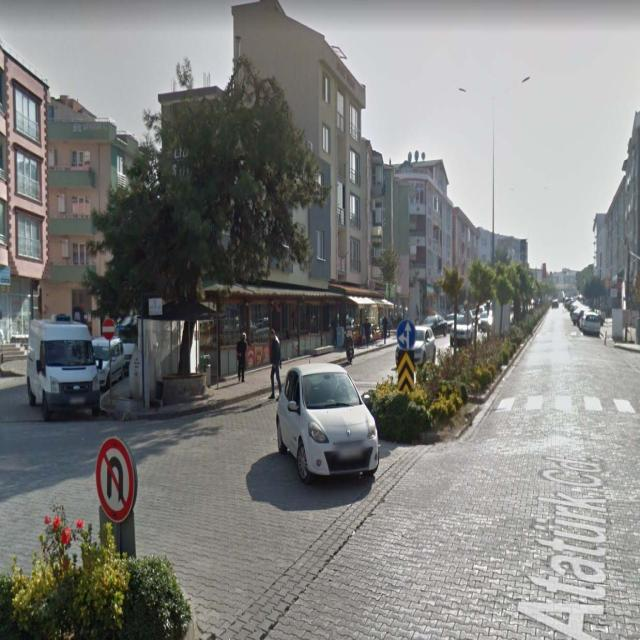girisyok: (102, 318, 116, 340)
ilerisol: (398, 321, 414, 348)
